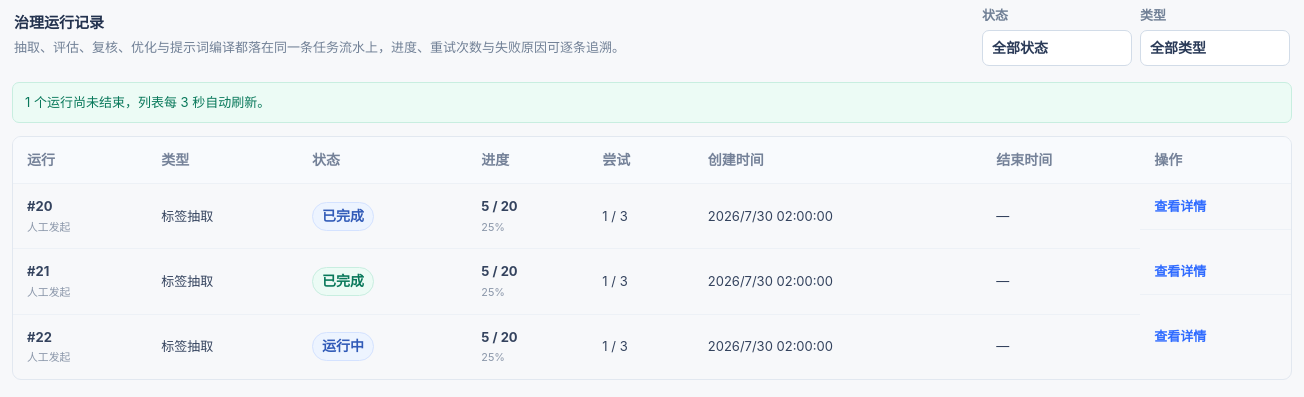
RunsPanel › treats the succeeded alias as completed when filtering
The image size is (1304, 397).
Expected: the row "#20 人工发起 标签抽取 已完成 5 / 20 25% 1 / 3 2026/7/30 02:00:00 — 查看详情" is shown, [13,184,1291,249]
Select "已完成" in the dropdown named "按状态筛选运行": (1057, 48) [982,30,1132,66]
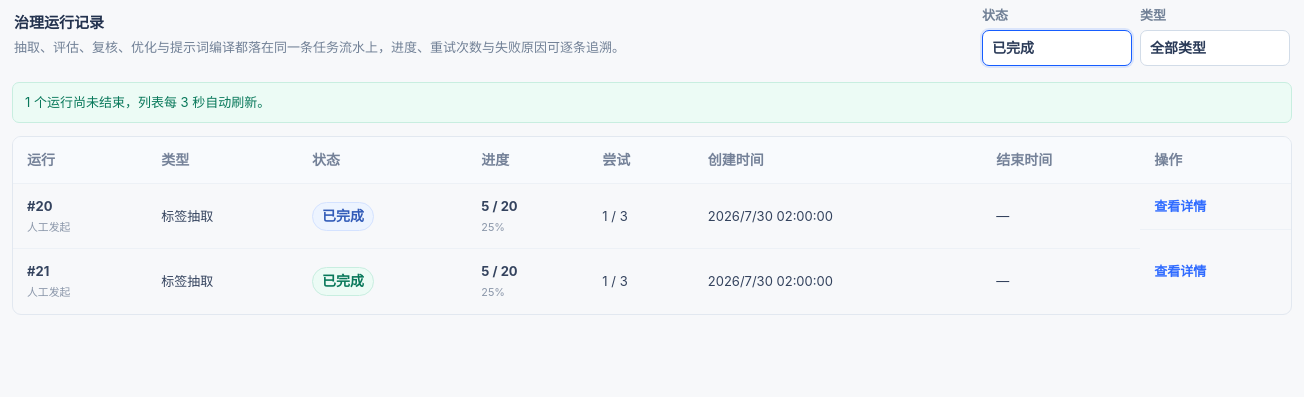
Expected: the row "#20 人工发起 标签抽取 已完成 5 / 20 25% 1 / 3 2026/7/30 02:00:00 — 查看详情" is shown, [13,184,1291,249]
Now the text "#22" is gone
